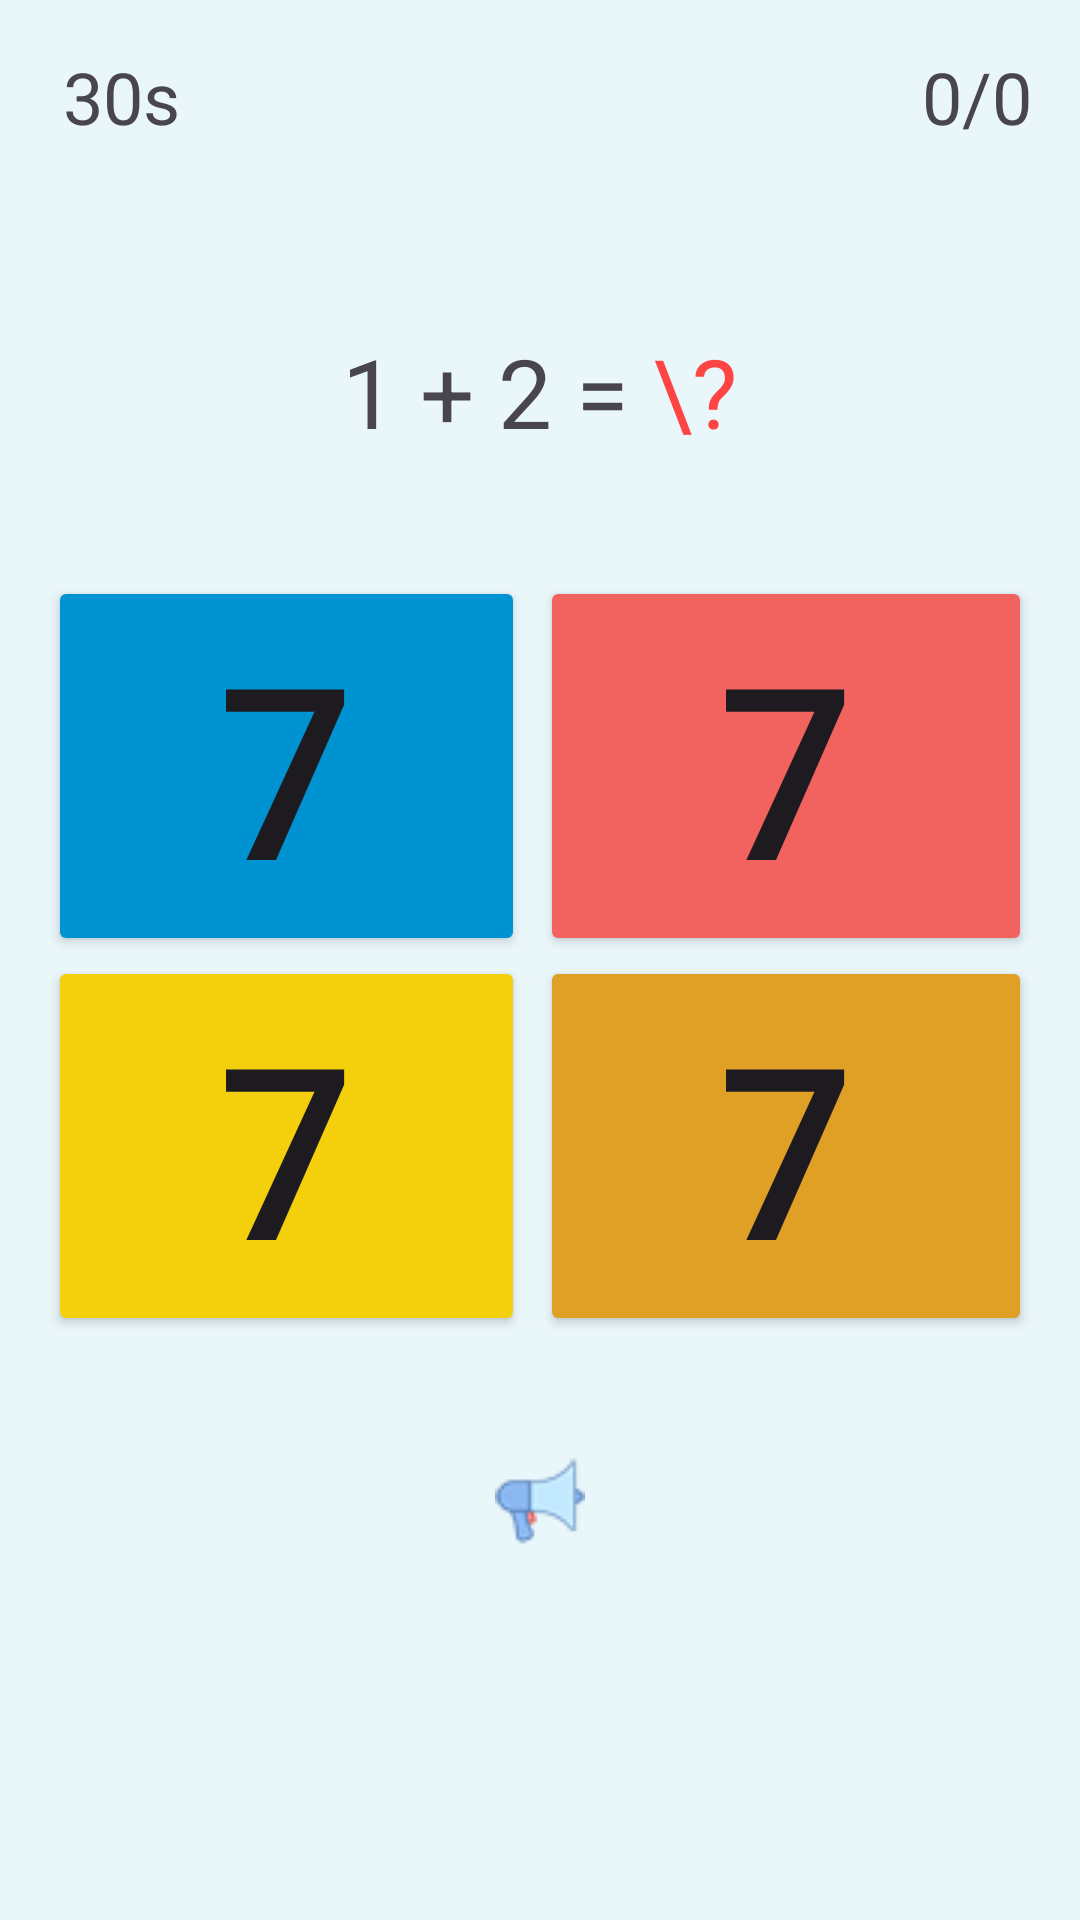

Where to tap for icons on this 1080*1920 app screen, as (x=x, y=y):
Load Speaker Image: (x=540, y=1501)
